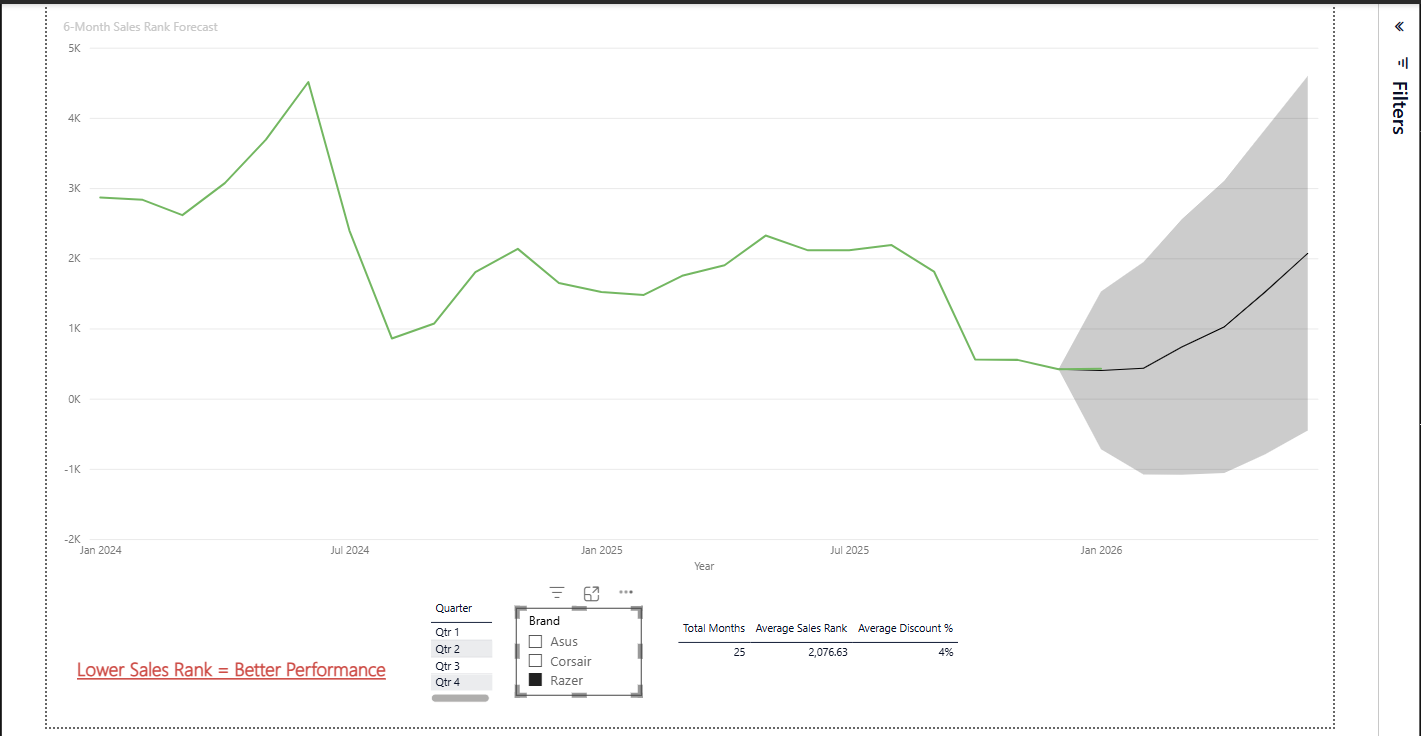

The dashboard page shown, as its layout file describes it:
{"tool":"powerbi","page":{"name":"Sales Rank Forecast","canvas":[1280,720],"ordinal":3},"visuals":[{"type":"lineChart","title":"6-Month Sales Rank Forecast","fields":{"Category":["All_Keyboards.Time.Variation.Date Hierarchy.Year","All_Keyboards.Time.Variation.Date Hierarchy.Month"],"Y":["Avg(All_Keyboards.Sales Rank)"]},"box":[10.6,13.6,1269.7,557.6],"z":0},{"type":"slicer","fields":{"Values":["All_Keyboards.Brand"]},"box":[466,600.6,125.6,88],"z":1000},{"type":"tableEx","fields":{"Values":["All_Keyboards.Total Months","All_Keyboards.Average Sales Rank","All_Keyboards.Average Discount %"]},"box":[621.4,607.1,296.4,73.8],"z":2000},{"type":"textbox","box":[24.9,644.4,335.9,53.5],"z":3000},{"type":"tableEx","fields":{"Values":["All_Keyboards.Time.Variation.Date Hierarchy.Quarter"]},"box":[375.7,587.1,72.1,113.2],"z":3001}]}

Visuals, with their boxes in screenshot pixels (x1, y1, x2, y2):
"6-Month Sales Rank Forecast" lineChart: x1=0 y1=0 x2=1328 y2=583
slicer - All_Keyboards.Brand: x1=476 y1=613 x2=608 y2=705
tableEx - All_Keyboards.Total Months x All_Keyboards.Average Sales Rank: x1=639 y1=620 x2=949 y2=697
textbox: x1=15 y1=659 x2=366 y2=715
tableEx - All_Keyboards.Time.Variation.Date Hierarchy.Quarter: x1=382 y1=599 x2=457 y2=718
